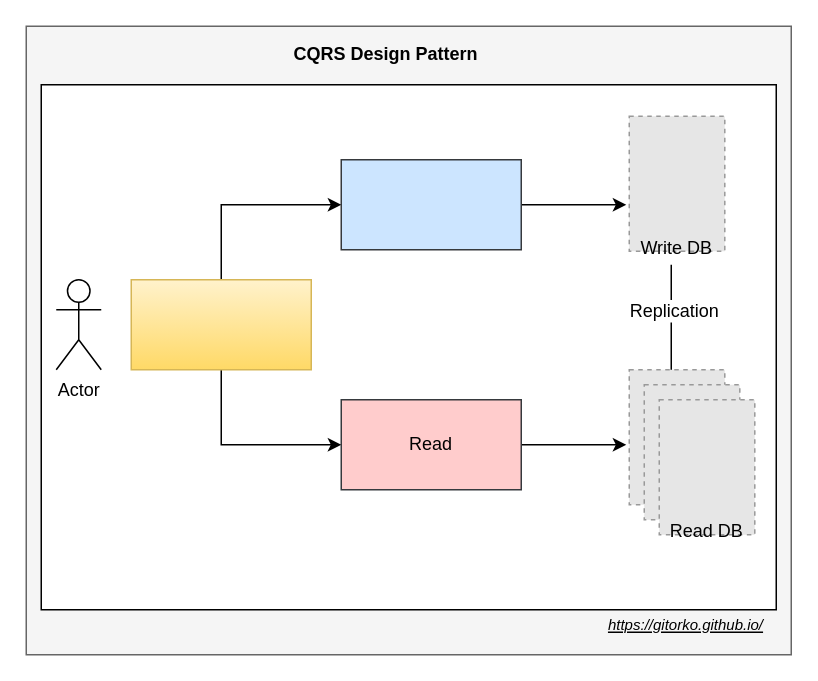
The diagram is 818 pixels wide and 681 high, and some of its shapes have lost their labels. Grey dashed boxes stand in for pictures. The shapes that lost their labels are listed below. From the top down, each one's centre as x and y in pixels, then its label:
(430,204): Write
(220,324): Service
